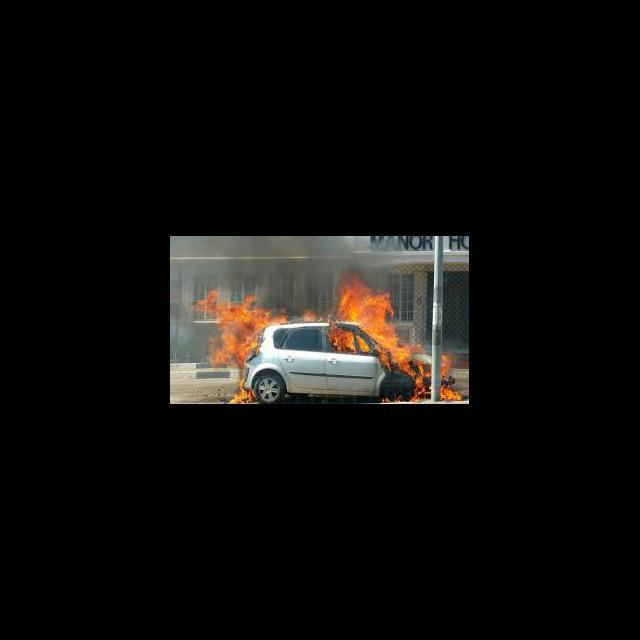Fire: (342, 279, 463, 404), (189, 287, 264, 363), (266, 306, 316, 326), (330, 326, 356, 356), (224, 381, 256, 403)
Smoke: (174, 236, 340, 285)
